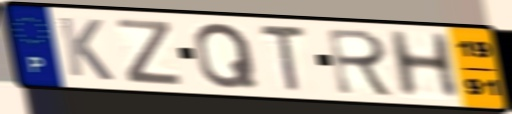H: (383, 28, 465, 100)
K: (55, 14, 116, 83)
Q: (192, 21, 262, 90)
R: (324, 26, 399, 99)
T: (257, 22, 310, 94)
Z: (115, 17, 185, 88)
